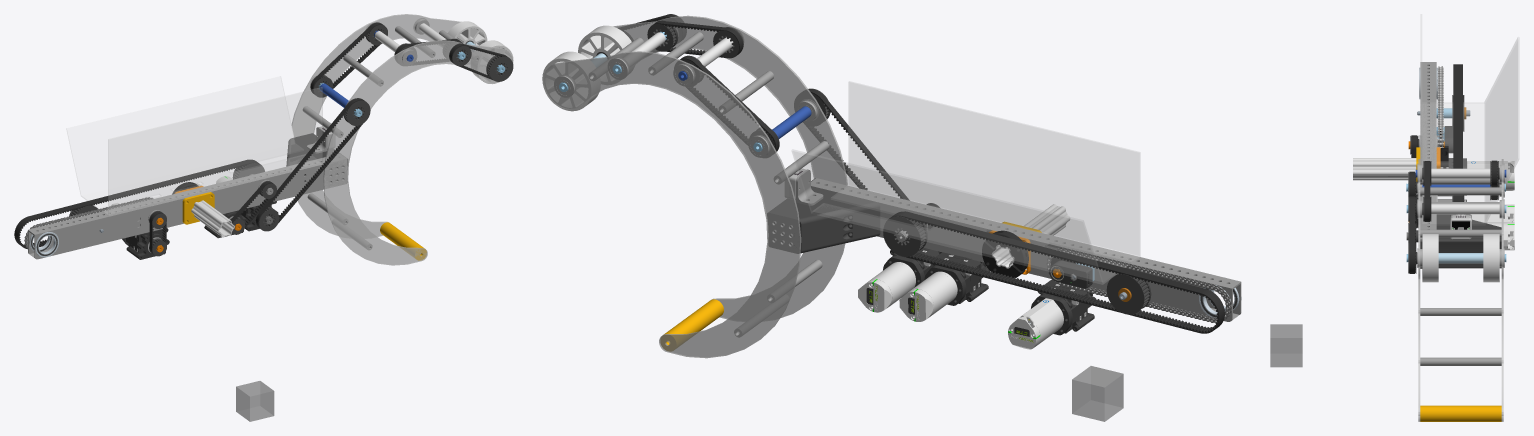
The picture shows the model from 3 angles, left to right: view 1: azimuth 30°, elevation 25°; view 2: azimuth 150°, elevation 25°; view 3: azimuth 270°, elevation 25°; orthographic projection. The views are drawn at different scales.
Parts seen in each view (by area): view 1: 1625-25-P-03308, 1625-25-P-03201 (×2), 1625-25-P-03301, Origin Cube (×2), 220T 5M 15mm Wide Belt, 130T 5M 9mm Wide Belt, am-3946 3IN 500Hex Molded Compliant Wheel VER 2 (×2), 30T HTD Pulley 9.53mm Wide (×2), 1625-25-P-03302, 1625-25-P-03205, 80T 5M 9mm Wide Belt, 1625-25-P-03202 (+2 smaller); view 2: 1625-25-P-03308, 1625-25-P-03201 (×2), 1625-25-P-03301, 1625-25-P-03205, 220T 5M 15mm Wide Belt, Origin Cube (×2), WCP-0941 (×3), am-3946 3IN 500Hex Molded Compliant Wheel VER 2 (×2), 36T HTD Pulley 15.53mm Wide (×2), 1625-25-P-03202, 130T 5M 9mm Wide Belt, 1625-25-P-03302 (+4 smaller); view 3: 1625-25-P-03308, 1625-25-P-03203 (×5), Origin Cube (×2), 1625-25-P-03301, am-3946 3IN 500Hex Molded Compliant Wheel VER 2 (×2), 1625-25-P-03201 (×2), 1625-25-P-03205, 1625-25-P-03208 (×2), 1625-25-P-03302, 1625-25-P-03202, 220T 5M 15mm Wide Belt, WCP-0941 (×3) (+4 smaller).
Part boxes in pixels (x1,y1,x2,y2): 1625-25-P-03308: (66, 76, 322, 215); 1625-25-P-03201 (×2): (291, 14, 512, 265); 1625-25-P-03301: (28, 154, 346, 259); Origin Cube (×2): (236, 381, 273, 421); 220T 5M 15mm Wide Belt: (14, 159, 261, 249); 130T 5M 9mm Wide Belt: (256, 98, 365, 231); am-3946 3IN 500Hex Molded Compliant Wheel VER 2 (×2): (448, 21, 513, 83); 30T HTD Pulley 9.53mm Wide (×2): (343, 55, 513, 125); 1625-25-P-03302: (191, 200, 234, 237); 1625-25-P-03205: (286, 133, 338, 166); 80T 5M 9mm Wide Belt: (310, 22, 384, 95); 1625-25-P-03202: (380, 222, 426, 260); 1625-25-P-03308: (791, 81, 1140, 284); 1625-25-P-03201 (×2): (543, 15, 847, 358); 1625-25-P-03301: (811, 178, 1241, 321); 1625-25-P-03205: (767, 186, 880, 253); 220T 5M 15mm Wide Belt: (886, 211, 1224, 333); Origin Cube (×2): (1072, 366, 1123, 421); WCP-0941 (×3): (868, 262, 1063, 349); am-3946 3IN 500Hex Molded Compliant Wheel VER 2 (×2): (542, 25, 634, 111); 36T HTD Pulley 15.53mm Wide (×2): (883, 211, 1151, 314); 1625-25-P-03202: (661, 299, 723, 350); 130T 5M 9mm Wide Belt: (803, 89, 909, 200); 1625-25-P-03302: (992, 204, 1070, 268); 1625-25-P-03308: (1420, 14, 1519, 224); 1625-25-P-03203 (×5): (1420, 178, 1501, 365); Origin Cube (×2): (1270, 324, 1302, 366); 1625-25-P-03301: (1420, 62, 1436, 268); am-3946 3IN 500Hex Molded Compliant Wheel VER 2 (×2): (1422, 234, 1499, 282); 1625-25-P-03201 (×2): (1418, 159, 1503, 421); 1625-25-P-03205: (1436, 214, 1501, 268); 1625-25-P-03208 (×2): (1431, 168, 1499, 214); 1625-25-P-03302: (1353, 158, 1448, 180); 1625-25-P-03202: (1420, 405, 1501, 421); 220T 5M 15mm Wide Belt: (1453, 64, 1462, 201); WCP-0941 (×3): (1467, 161, 1514, 250).
Size of the model in its own units: 1.01 by 0.5514 by 0.39.
